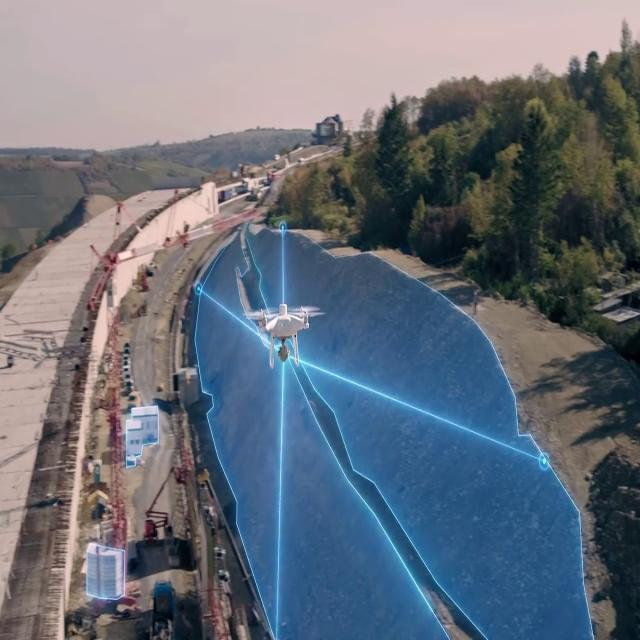drone: (242, 292, 328, 370)
